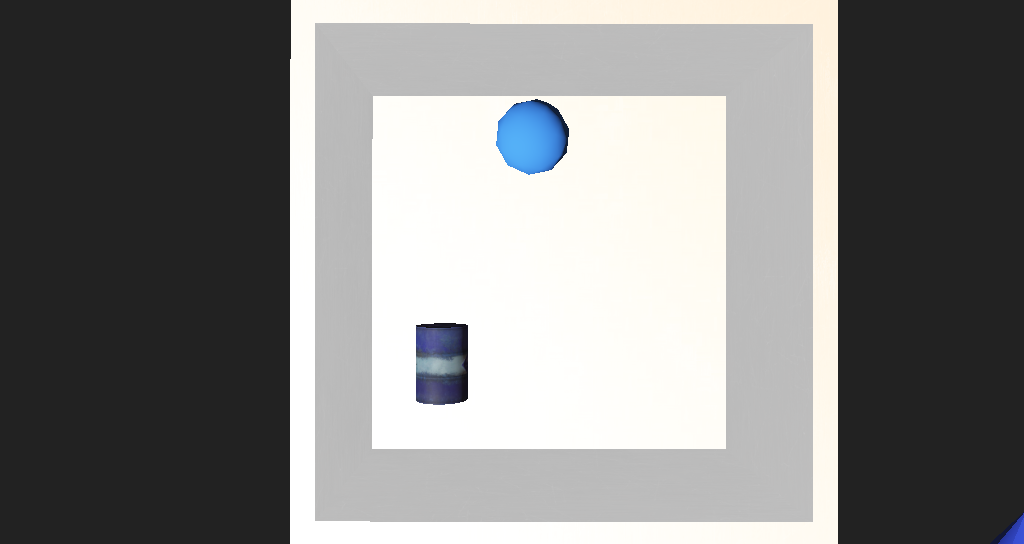cone: (384, 298, 438, 351)
cylinder: (825, 391, 994, 477)
sphere: (461, 162, 522, 210)
